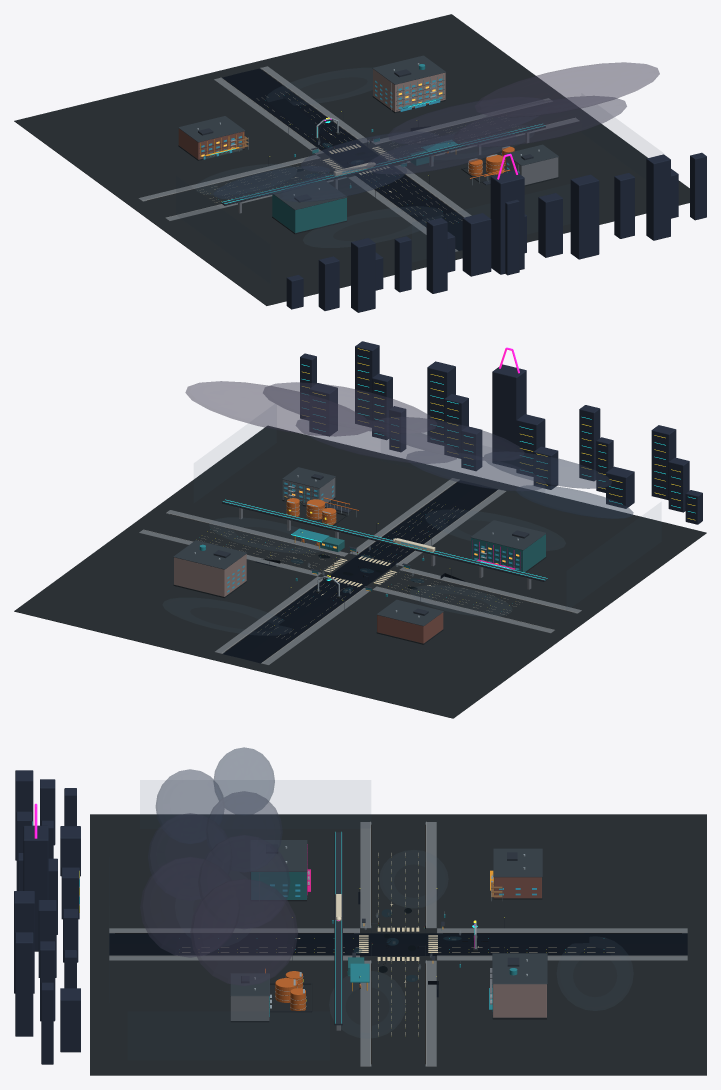
Rendered from pawprint-moonpaw-environment-v2.glb.
3 renders of one model, top to bottom at view 1: azimuth 30°, elevation 25°; view 2: azimuth 150°, elevation 25°; view 3: azimuth 270°, elevation 25°, orthographic. The views are drawn at different scales.
Visible parts, largest first — view 1: Moonpaw_FreightDistrict_Ground, Moonpaw_Batch_distant_landmark, Road_NS_Authored, CloudLayer_6, CloudLayer_5, Moonpaw_Batch_primary_building, Moonpaw_Batch_building_detail, Moonpaw_Batch_sidewalk, CloudLayer_4, CloudLayer_3, Moonpaw_Batch_landmark, CloudLayer_2 (+6 smaller); view 2: Moonpaw_FreightDistrict_Ground, Moonpaw_Batch_distant_landmark, Road_NS_Authored, Moonpaw_Batch_sidewalk, CloudLayer_6, Moonpaw_Batch_primary_building, CloudLayer_5, Moonpaw_Batch_building_detail, CloudLayer_4, Moonpaw_Batch_landmark, CloudLayer_3, CloudLayer_2 (+7 smaller); view 3: Moonpaw_FreightDistrict_Ground, Moonpaw_Batch_distant_landmark, Road_NS_Authored, Moonpaw_Batch_sidewalk, CloudLayer_6, CloudLayer_5, Moonpaw_Batch_building_detail, CloudLayer_4, Moonpaw_Batch_primary_building, CloudLayer_3, CloudLayer_2, CloudLayer_1 (+6 smaller).
Boxes of the visible parts, x1=… form: Moonpaw_FreightDistrict_Ground: x1=14, y1=14, x2=689, y2=305; Moonpaw_Batch_distant_landmark: x1=286, y1=152, x2=706, y2=312; Road_NS_Authored: x1=222, y1=68, x2=463, y2=250; CloudLayer_6: x1=475, y1=62, x2=659, y2=117; CloudLayer_5: x1=453, y1=96, x2=626, y2=147; Moonpaw_Batch_primary_building: x1=178, y1=69, x2=558, y2=232; Moonpaw_Batch_building_detail: x1=178, y1=55, x2=558, y2=234; Moonpaw_Batch_sidewalk: x1=138, y1=66, x2=579, y2=251; CloudLayer_4: x1=388, y1=97, x2=544, y2=144; CloudLayer_3: x1=366, y1=131, x2=516, y2=174; Moonpaw_Batch_landmark: x1=221, y1=117, x2=545, y2=213; CloudLayer_2: x1=300, y1=131, x2=438, y2=172; Moonpaw_FreightDistrict_Ground: x1=14, y1=425, x2=706, y2=718; Moonpaw_Batch_distant_landmark: x1=300, y1=341, x2=702, y2=524; Road_NS_Authored: x1=222, y1=480, x2=497, y2=663; Moonpaw_Batch_sidewalk: x1=139, y1=478, x2=581, y2=665; CloudLayer_6: x1=185, y1=381, x2=370, y2=436; Moonpaw_Batch_primary_building: x1=174, y1=477, x2=545, y2=643; CloudLayer_5: x1=263, y1=382, x2=436, y2=433; Moonpaw_Batch_building_detail: x1=173, y1=467, x2=546, y2=644; CloudLayer_4: x1=296, y1=417, x2=458, y2=463; Moonpaw_Batch_landmark: x1=222, y1=497, x2=547, y2=598; CloudLayer_3: x1=377, y1=417, x2=524, y2=461; CloudLayer_2: x1=406, y1=451, x2=545, y2=491; Moonpaw_FreightDistrict_Ground: x1=90, y1=814, x2=706, y2=1075; Moonpaw_Batch_distant_landmark: x1=14, y1=770, x2=80, y2=1064; Road_NS_Authored: x1=109, y1=933, x2=687, y2=955; Moonpaw_Batch_sidewalk: x1=109, y1=822, x2=687, y2=1066; CloudLayer_6: x1=190, y1=878, x2=297, y2=985; CloudLayer_5: x1=140, y1=857, x2=239, y2=957; Moonpaw_Batch_building_detail: x1=230, y1=840, x2=547, y2=1022; CloudLayer_4: x1=198, y1=835, x2=290, y2=928; Moonpaw_Batch_primary_building: x1=230, y1=872, x2=546, y2=1020; CloudLayer_3: x1=148, y1=813, x2=232, y2=900; CloudLayer_2: x1=206, y1=791, x2=282, y2=872; CloudLayer_1: x1=155, y1=769, x2=224, y2=843.
Size of what is drawn, in the model's own units: 332 by 80.05 by 359.
